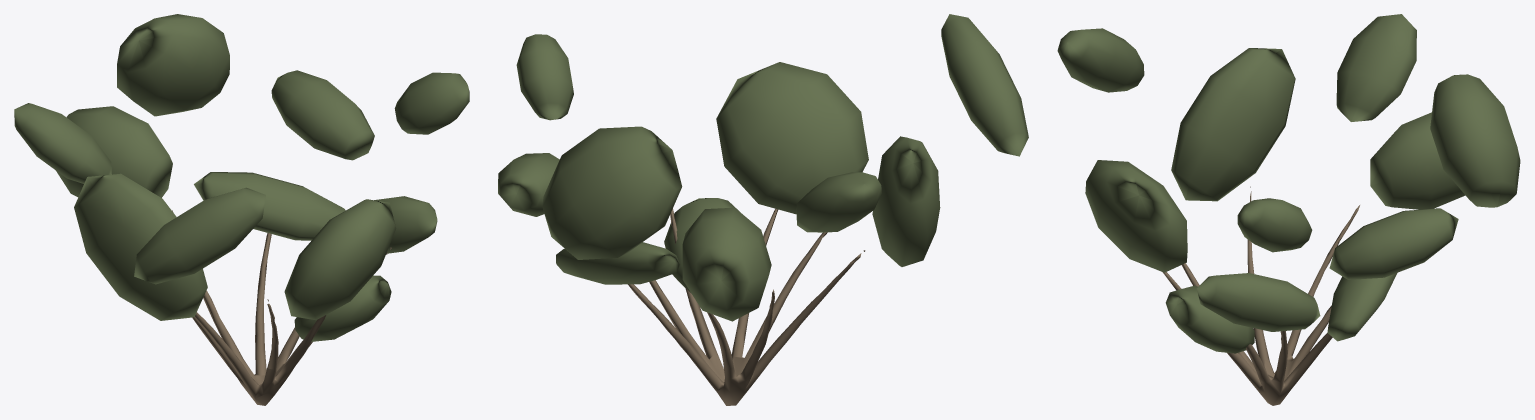
File: Ciste_1_Niveau2.fbx
3 renders of one model, left to right at view 1: azimuth 30°, elevation 25°; view 2: azimuth 150°, elevation 25°; view 3: azimuth 270°, elevation 25°, orthographic. The views are drawn at different scales.
Parts seen in each view (by area): view 1: Ciste_1_Niveau2_Jeu; view 2: Ciste_1_Niveau2_Jeu; view 3: Ciste_1_Niveau2_Jeu.
Part boxes in pixels (x1,y1,x2,y2): Ciste_1_Niveau2_Jeu: (14,14,469,405); Ciste_1_Niveau2_Jeu: (498,14,1028,405); Ciste_1_Niveau2_Jeu: (1057,14,1520,405).
Size of the model in its own units: 104 by 80.57 by 104.
